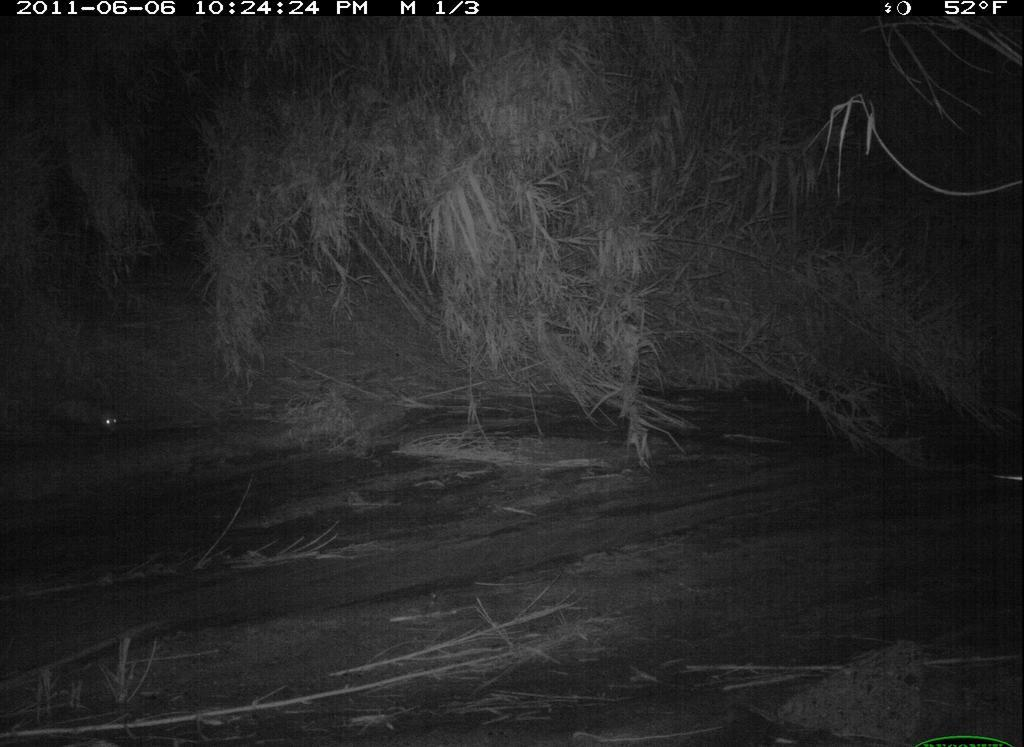opossum: (39, 386, 131, 450)
